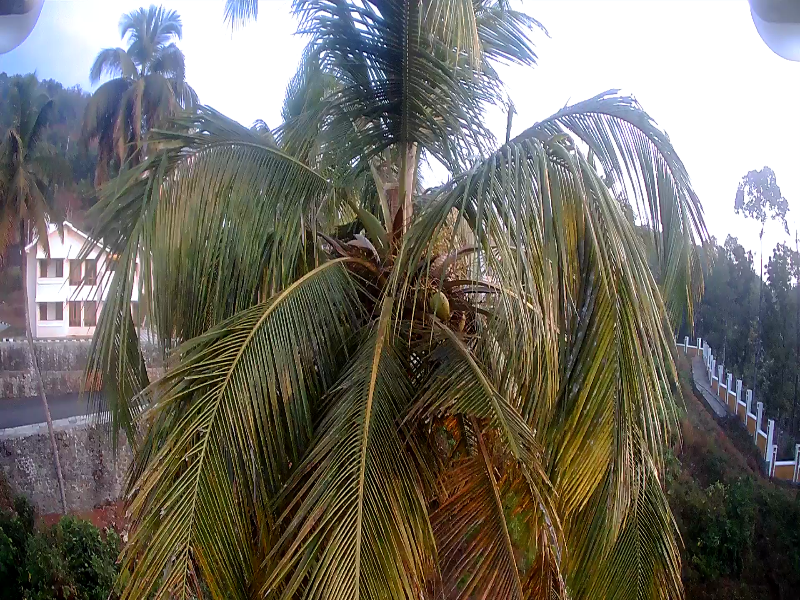coconut: (428, 288, 450, 317)
